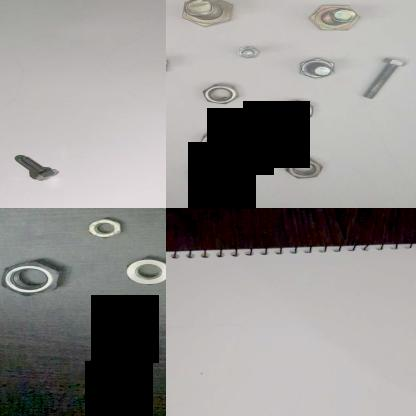Bolts: (360, 49, 410, 104), (299, 1, 369, 35), (168, 0, 242, 28), (8, 147, 64, 183), (290, 54, 345, 82), (236, 40, 265, 62)
NUTS: (0, 257, 65, 297), (190, 158, 244, 192), (271, 92, 321, 127), (124, 251, 166, 285), (83, 214, 133, 240), (278, 152, 326, 179), (201, 80, 247, 108), (194, 127, 240, 154)
